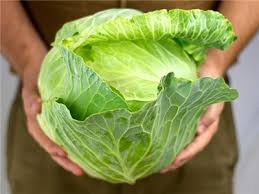cabbage: (35, 7, 220, 183)
